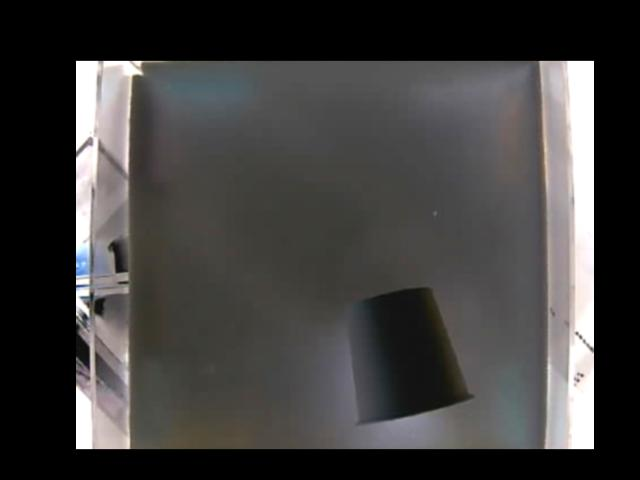Cup: (347, 286, 477, 424)
